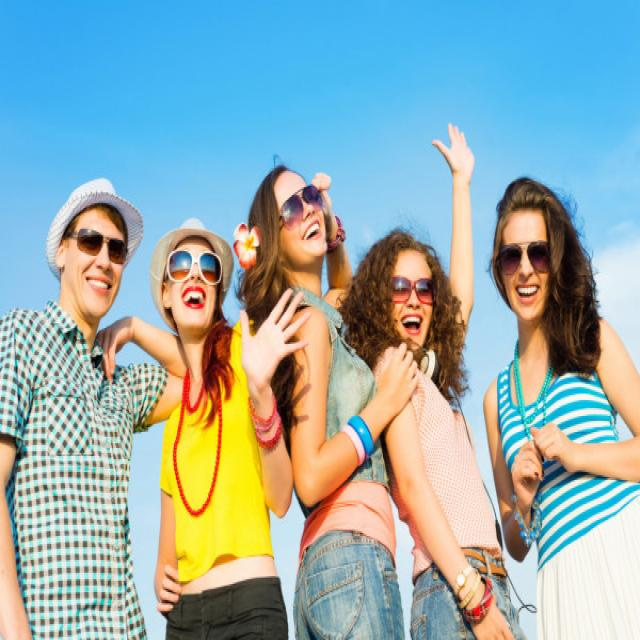hat: (47, 178, 141, 318), (152, 216, 232, 336)
head: (492, 186, 562, 320), (370, 238, 440, 356), (255, 167, 333, 266)
